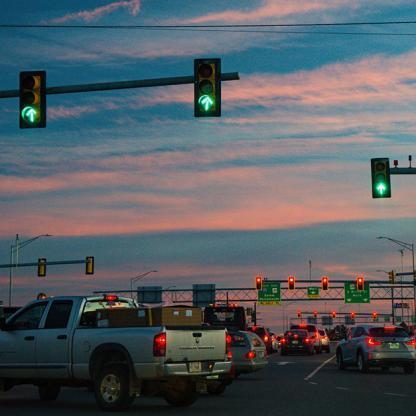green: (194, 58, 222, 118), (18, 72, 45, 130), (371, 158, 389, 198)
